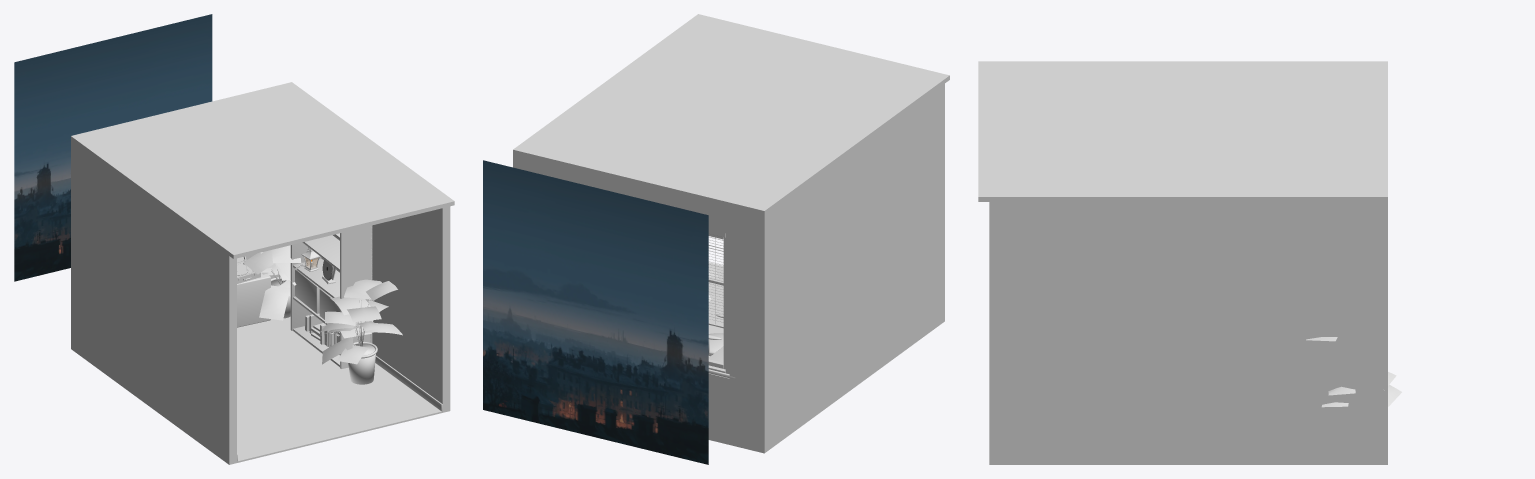
The model's file is room.glb.
3 views of the same model, side by side, from view 1: azimuth 30°, elevation 25°; view 2: azimuth 150°, elevation 25°; view 3: azimuth 270°, elevation 25° (orthographic). The views are drawn at different scales.
Parts seen in each view (by area): view 1: Ceiling, Wall_Left, City_Backdrop, Floor, Wall_Right, Shelf_Projects, Foreground_Plant, Corner_Plant, Music_Cabinet, Wall_Back, Shelf_Decor_02, Shelf_Decor_01 (+1 smaller); view 2: City_Backdrop, Ceiling, Wall_Left, Wall_Back, Floor, Window, Window_Blinds; view 3: Wall_Right, Ceiling, Wall_Back, Floor, Corner_Plant.
Part boxes in pixels (bbox=[...]): Ceiling: bbox=[71, 82, 454, 258]; Wall_Left: bbox=[75, 143, 236, 463]; City_Backdrop: bbox=[14, 14, 212, 281]; Floor: bbox=[71, 316, 450, 464]; Wall_Right: bbox=[372, 206, 450, 410]; Shelf_Projects: bbox=[290, 225, 372, 368]; Foreground_Plant: bbox=[320, 279, 402, 384]; Corner_Plant: bbox=[243, 245, 301, 320]; Music_Cabinet: bbox=[237, 273, 270, 327]; Wall_Back: bbox=[71, 140, 280, 350]; Shelf_Decor_02: bbox=[295, 270, 339, 319]; Shelf_Decor_01: bbox=[305, 314, 339, 354]; City_Backdrop: bbox=[483, 160, 708, 464]; Ceiling: bbox=[513, 14, 949, 215]; Wall_Left: bbox=[756, 84, 944, 447]; Wall_Back: bbox=[513, 154, 769, 451]; Floor: bbox=[708, 262, 944, 453]; Window: bbox=[708, 229, 729, 374]; Window_Blinds: bbox=[708, 236, 723, 328]; Wall_Right: bbox=[989, 202, 1387, 462]; Ceiling: bbox=[978, 61, 1387, 201]; Wall_Back: bbox=[1376, 202, 1387, 462]; Floor: bbox=[989, 463, 1387, 464]; Corner_Plant: bbox=[1306, 337, 1401, 407].
Bounding box in the file's own units: 3.06 × 3.12 × 4.9.
58 materials, 2 textured.
